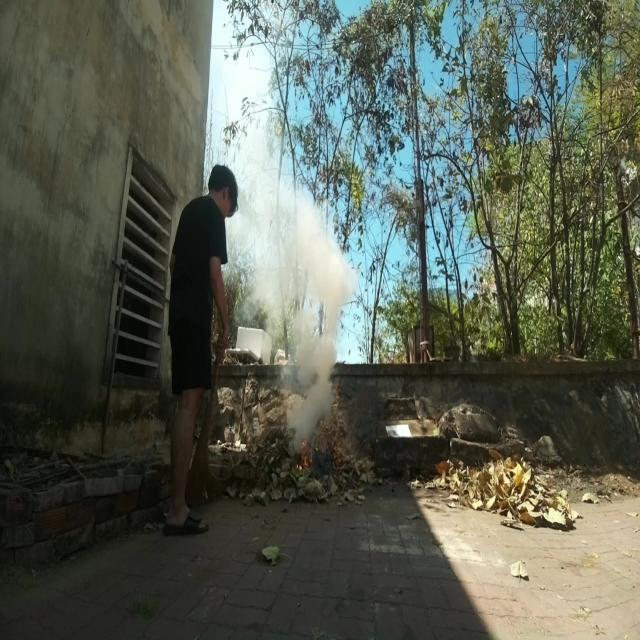Fire: (296, 438, 314, 470)
Smoke: (222, 146, 358, 455)
